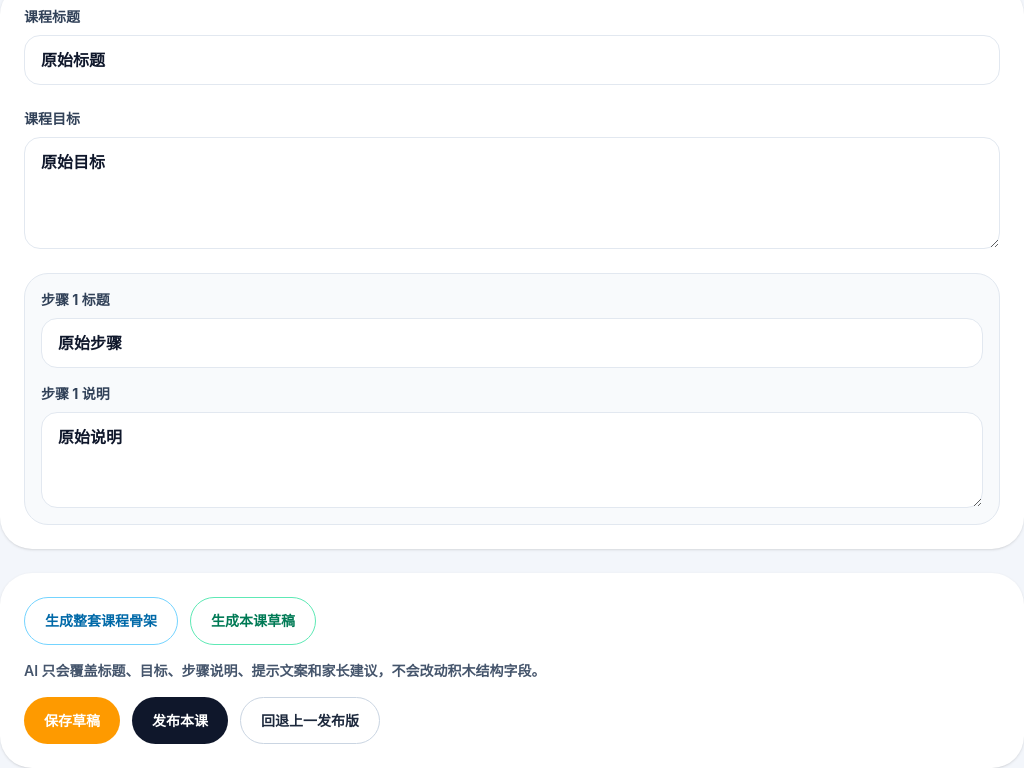
Scenario: LessonEditor › generates an AI draft and replaces the editable copy
(page scrolled)
What coordinates should you click on to do the following:
click the button "生成本课草稿"
I would click on:
 (253, 621)
Its box is [190, 597, 316, 645].
(page scrolled)
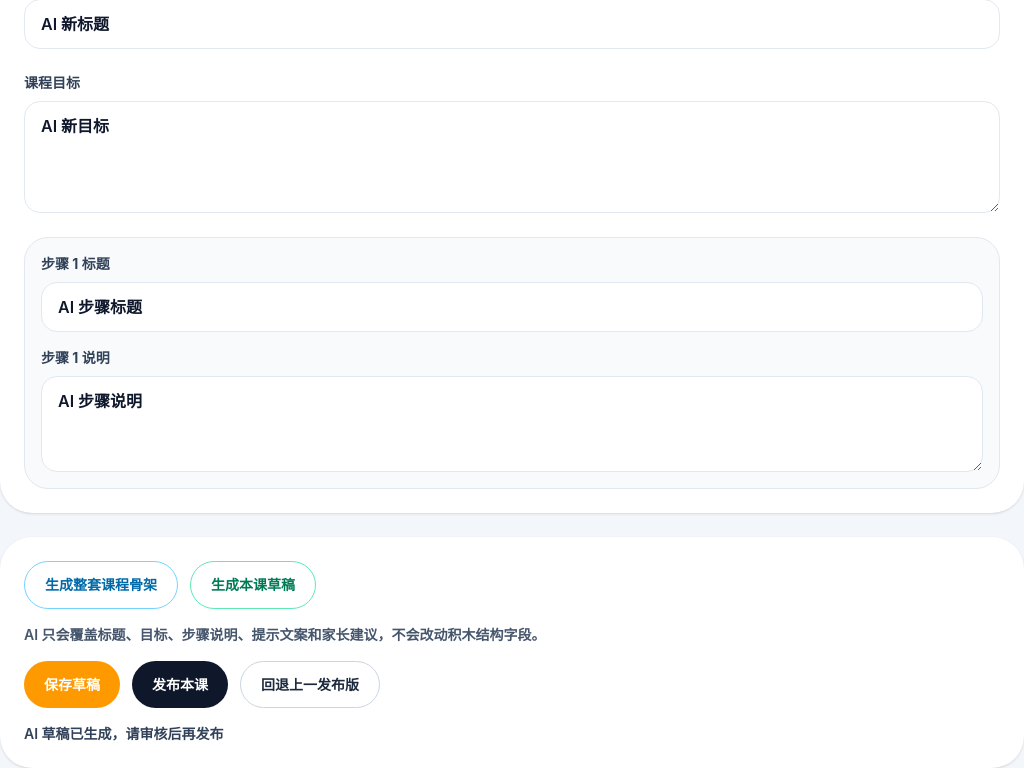
Now the field showing "AI 新标题" is shown, box [24, 0, 1000, 49]
Now the text "AI 草稿已生成，请审核后再发布" is shown, box [24, 725, 224, 742]
